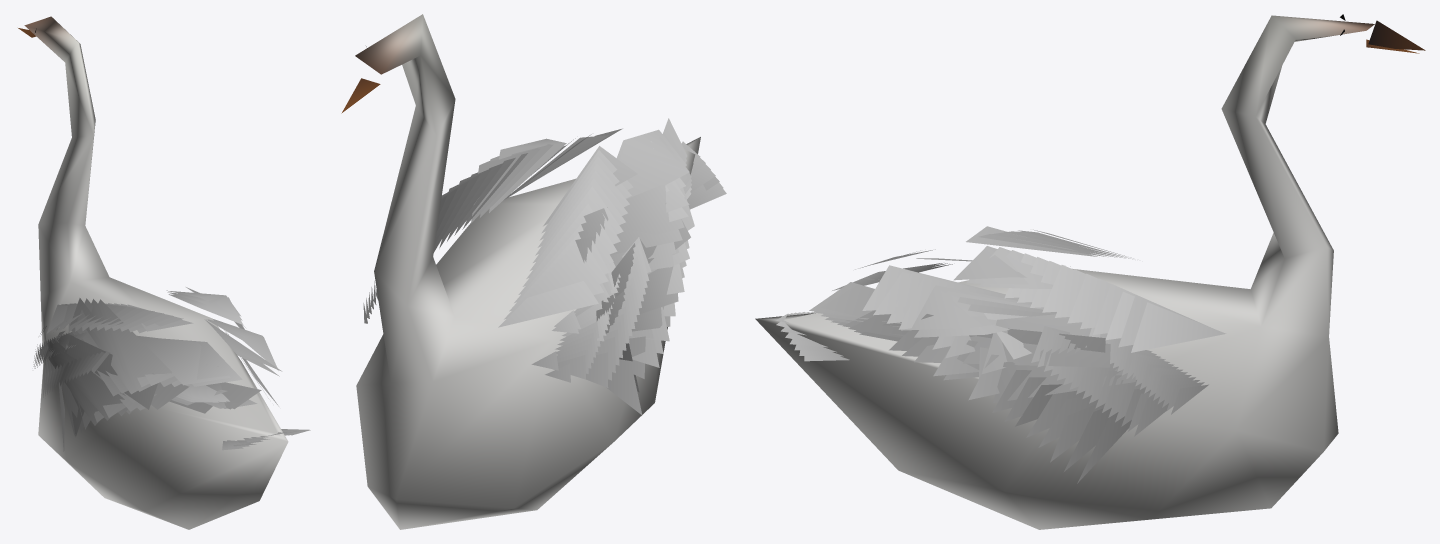
The model's file is swan_corps_far.glb.
3 renders of one model, left to right at view 1: azimuth 30°, elevation 25°; view 2: azimuth 150°, elevation 25°; view 3: azimuth 270°, elevation 25°, orthographic. The views are drawn at different scales.
Parts seen in each view (by area): view 1: SwanCorpsFar; view 2: SwanCorpsFar; view 3: SwanCorpsFar.
Part boxes in pixels (x1=…): SwanCorpsFar: x1=18, y1=16, x2=310, y2=529; SwanCorpsFar: x1=341, y1=14, x2=726, y2=529; SwanCorpsFar: x1=755, y1=14, x2=1425, y2=529.
Bounding box in the file's own units: 0.4819 × 1.05 × 1.27.
